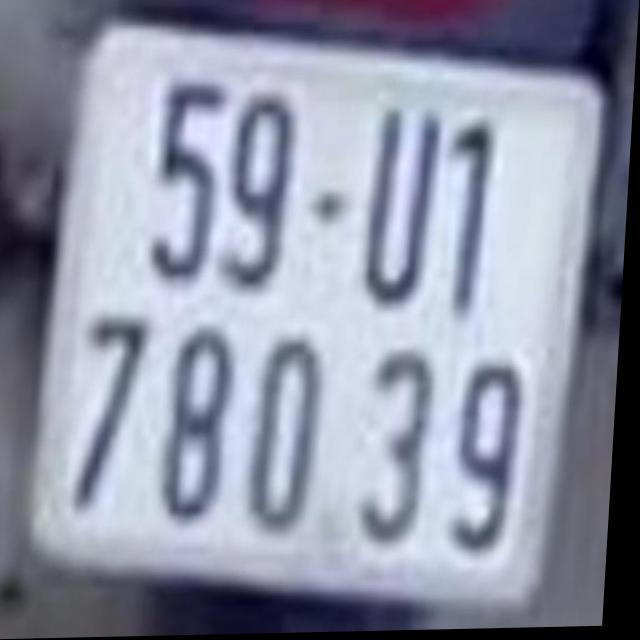0: (258, 331, 321, 532)
1: (443, 121, 499, 313)
3: (355, 343, 432, 547)
5: (154, 84, 223, 281)
7: (65, 308, 156, 515)
8: (170, 330, 233, 521)
9: (445, 363, 530, 556), (225, 93, 296, 293)
U: (366, 112, 439, 308)
